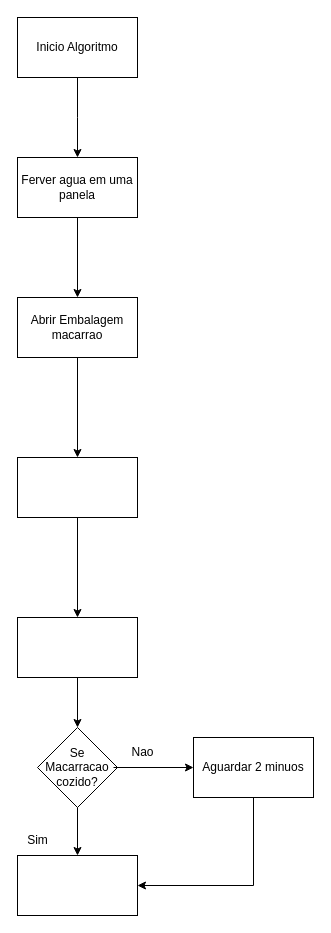
Image size: 331x933. Some labels were removed from this diagram. The shapes that lost their labels are listed below. From the top down, each one's centre as x and y in pixels, then its label:
At pixel 77 487: "Colocar macarrao na panela e adicionar tempero".
At pixel 77 647: "Aguardar 3 minutos".
At pixel 77 885: "Fim Algoritmo".
